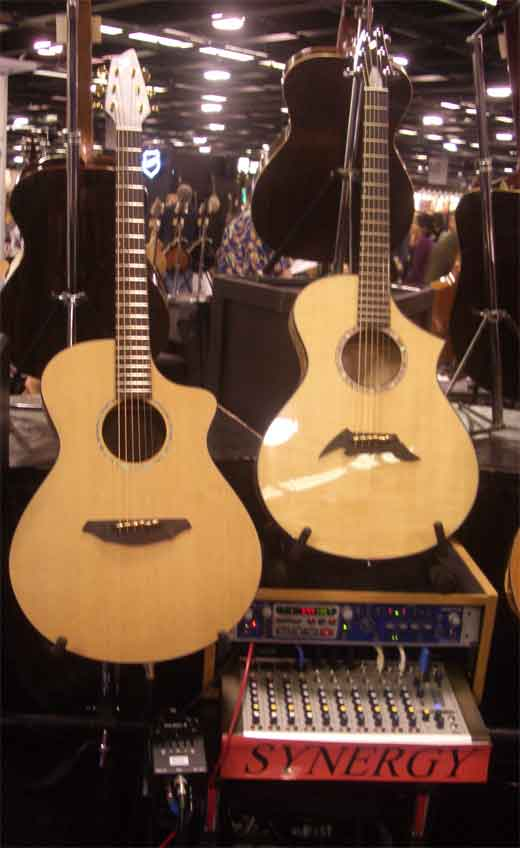guitar: (8, 49, 265, 666), (257, 25, 480, 563)
